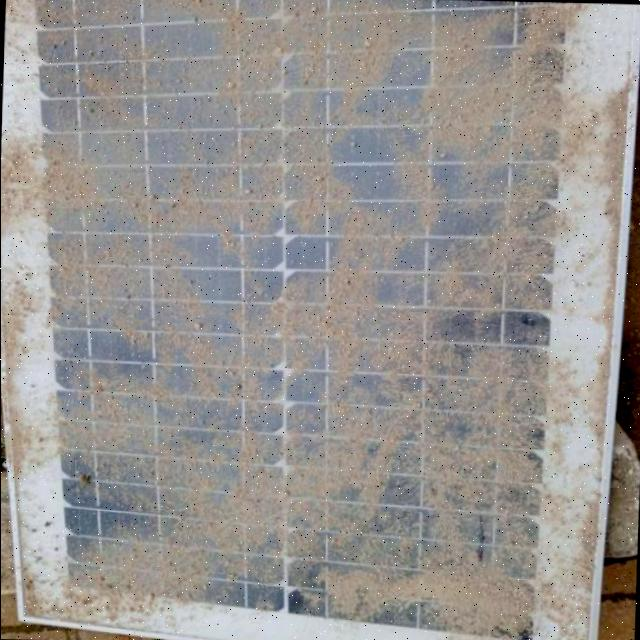Surface Contaminant: (32, 0, 589, 629)
